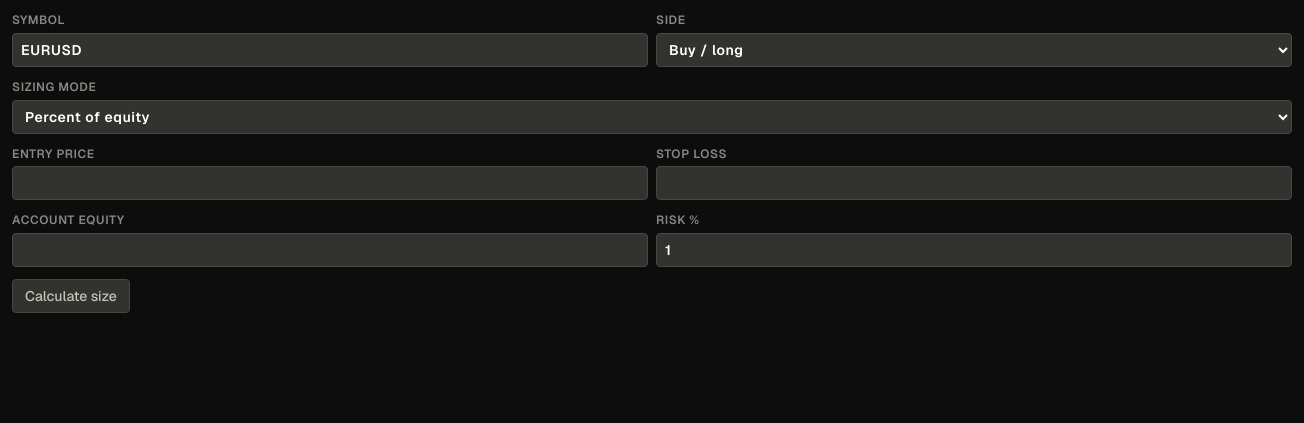
SizingCalculator › shows a refusal as a refusal, never as a zero quantity
The width and height of the screenshot is (1304, 423).
Click the button "Calculate size" at (71, 296), box [12, 279, 130, 313]
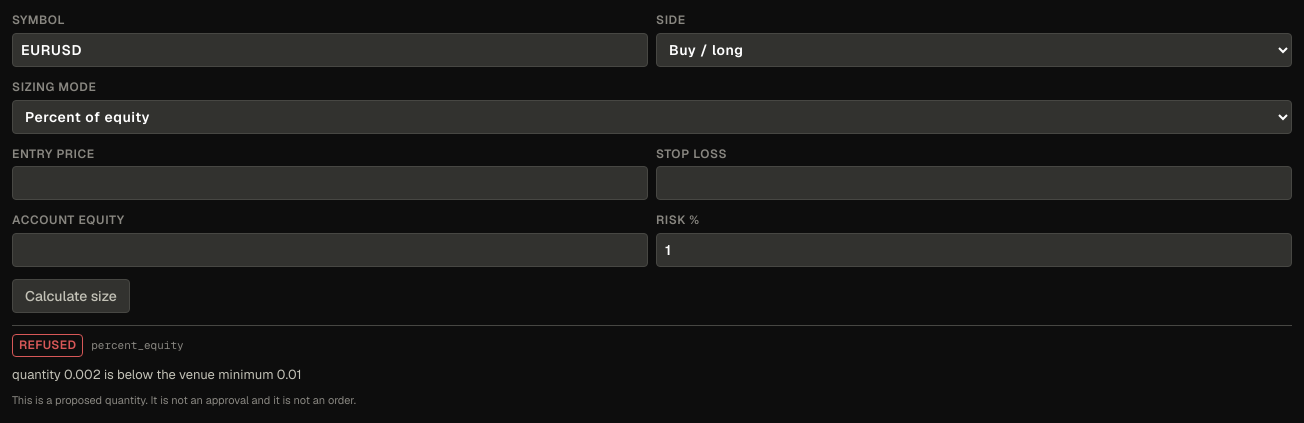
Expected: the text "REFUSED" is shown, [12, 334, 83, 357]
Expected: the text "quantity 0.002 is below the venue minimum 0.01" is shown, [12, 366, 302, 383]
